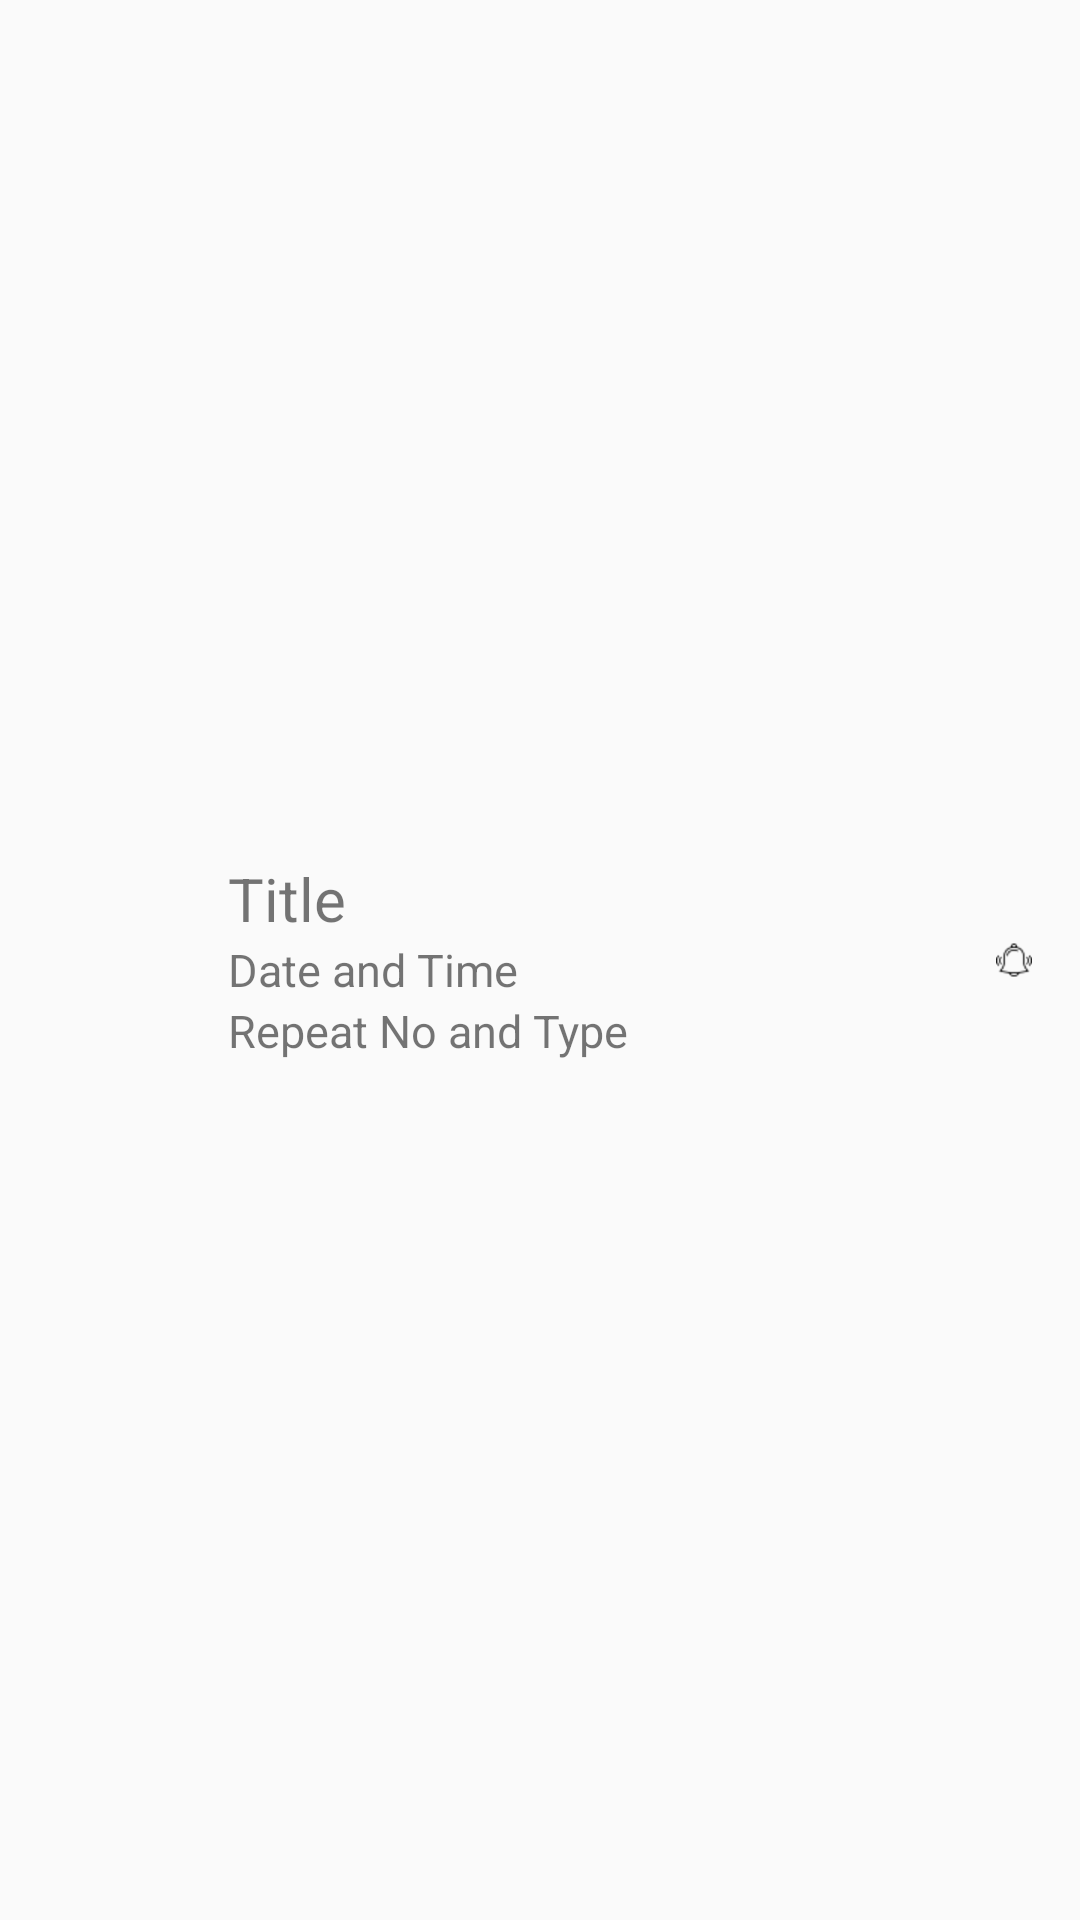

Locate icon controls on the screen. Image size 1080 x 1920, boxes as (x1, y1, x2, y2).
alarm: (996, 943, 1032, 977)
